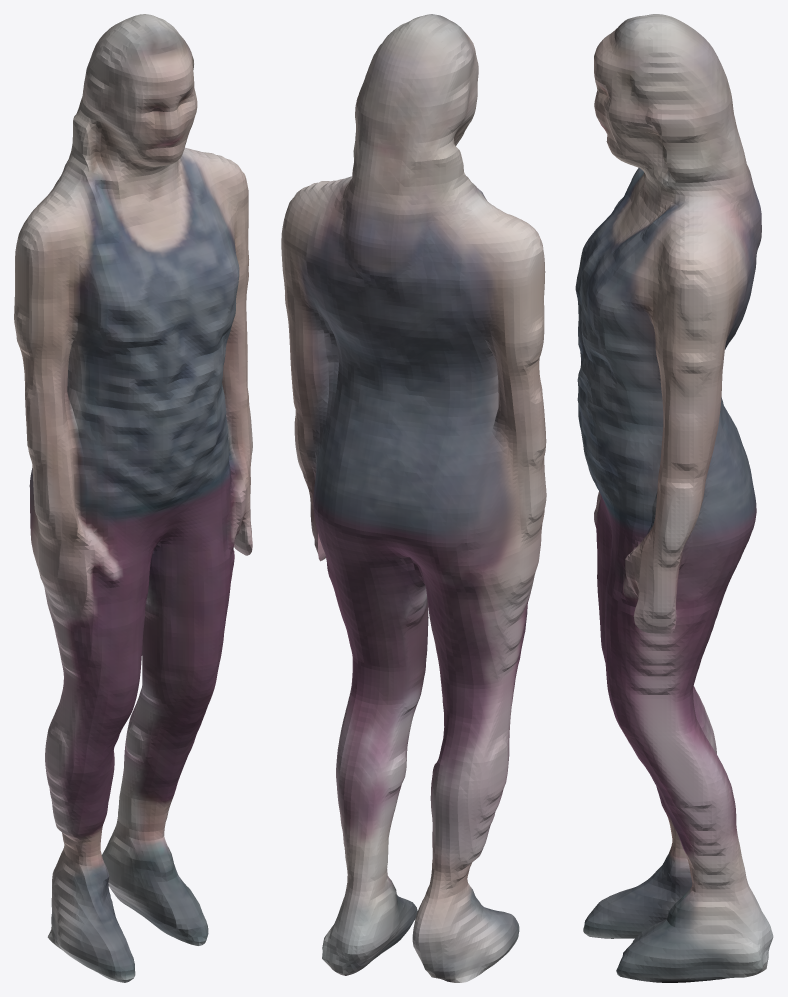
The model's file is 0002_tex.glb.
3 renders of one model, left to right at view 1: azimuth 30°, elevation 25°; view 2: azimuth 150°, elevation 25°; view 3: azimuth 270°, elevation 25°, orthographic.
Visible parts, largest first — view 1: 0002_tex.obj; view 2: 0002_tex.obj; view 3: 0002_tex.obj.
Boxes of the visible parts, x1=… form: 0002_tex.obj: x1=14, y1=14, x2=252, y2=982; 0002_tex.obj: x1=281, y1=14, x2=546, y2=982; 0002_tex.obj: x1=575, y1=14, x2=773, y2=982.
Size of the model in its own units: 0.2407 by 0.8936 by 0.1701.
